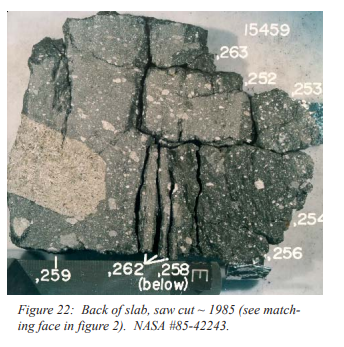Breccia: (7, 6, 313, 271)
